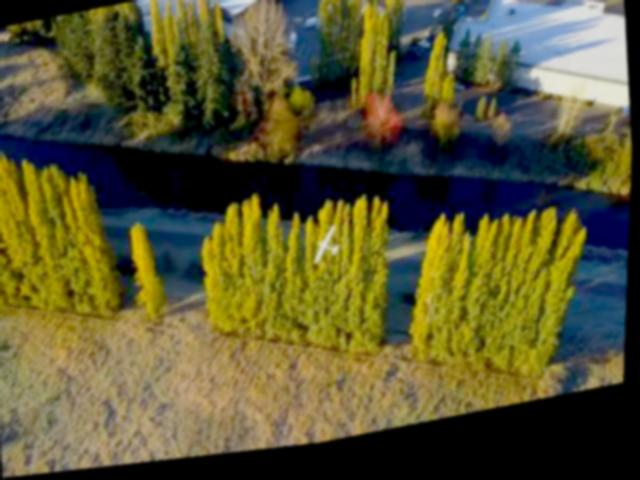uav: (312, 230, 345, 271)
